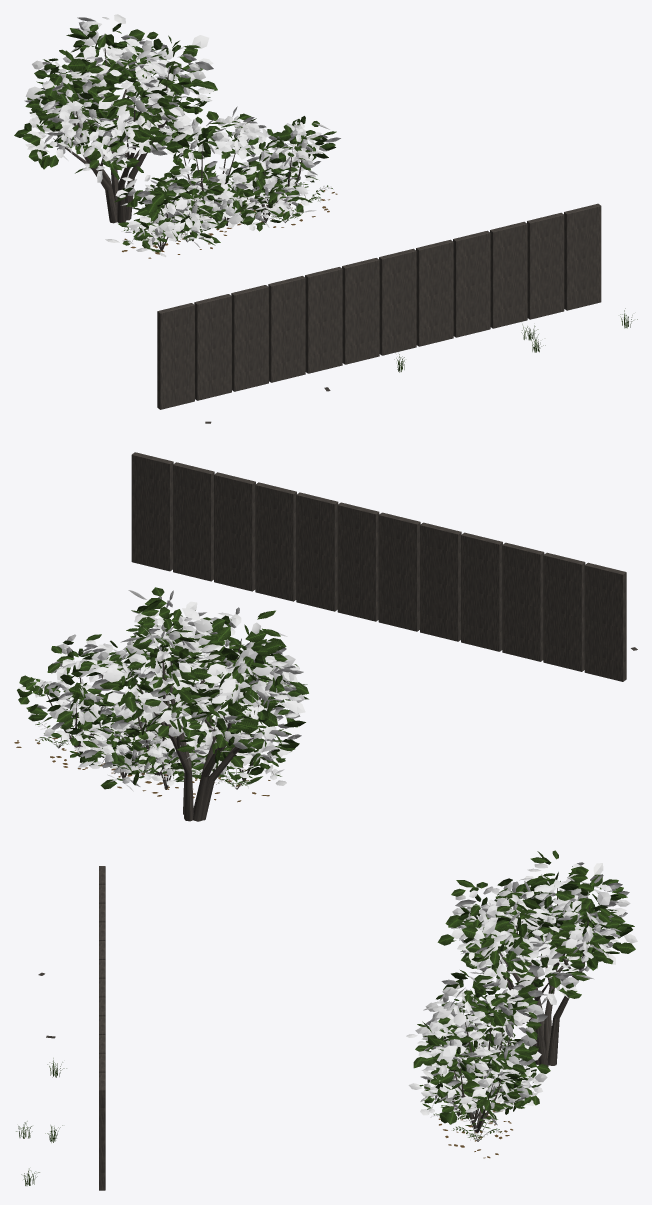
Rendered from SM_Env_Tile_m2_m3.fbx.
3 views of the same model, one above another, from view 1: azimuth 30°, elevation 25°; view 2: azimuth 150°, elevation 25°; view 3: azimuth 270°, elevation 25° (orthographic). The views are drawn at different scales.
Visible parts, largest first — view 1: SM_Env_Tile_m2_m3; view 2: SM_Env_Tile_m2_m3; view 3: SM_Env_Tile_m2_m3.
Boxes of the visible parts, box(x1,y1,x2,y2) form: SM_Env_Tile_m2_m3: box(14, 14, 637, 423); SM_Env_Tile_m2_m3: box(14, 452, 637, 821); SM_Env_Tile_m2_m3: box(16, 850, 637, 1190).
Size of what is drawn, in the model's own units: 1194 by 1404 by 485.
Materials: 7 (3 with a texture image).
